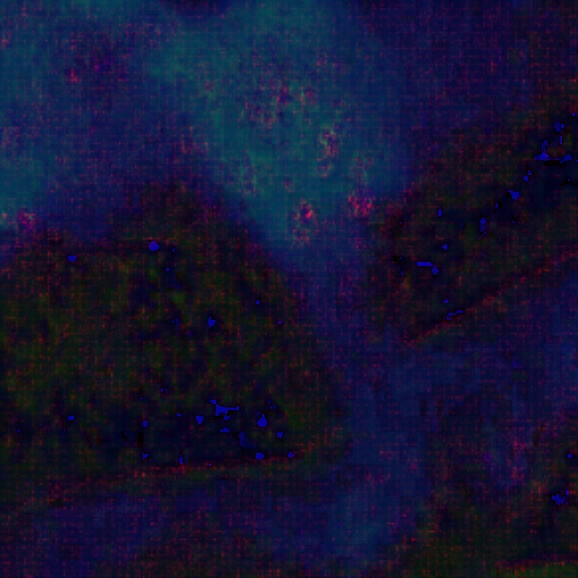rip_current: (187, 126, 451, 439)
